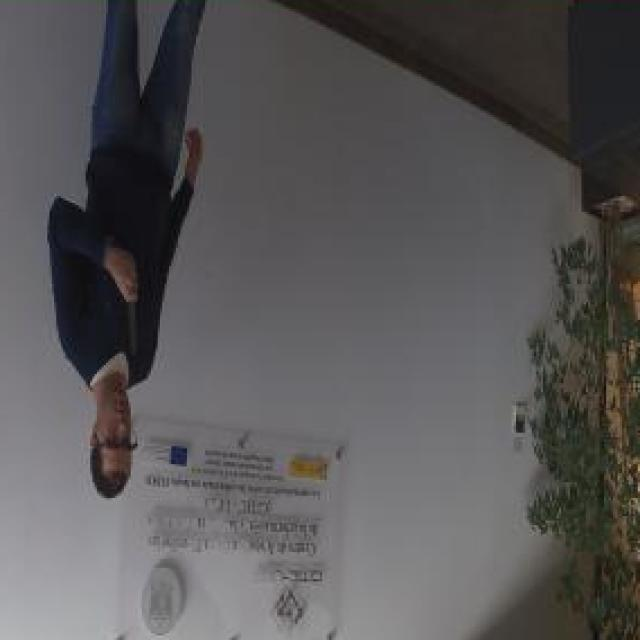knife: (122, 275, 142, 363)
